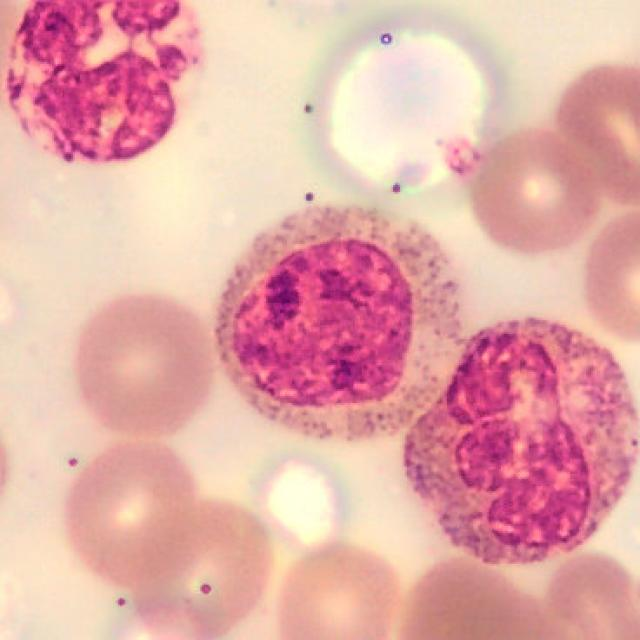Mielocito: (216, 204, 468, 443)
Neutrofilo segmentado: (402, 318, 638, 567), (7, 0, 200, 164)
